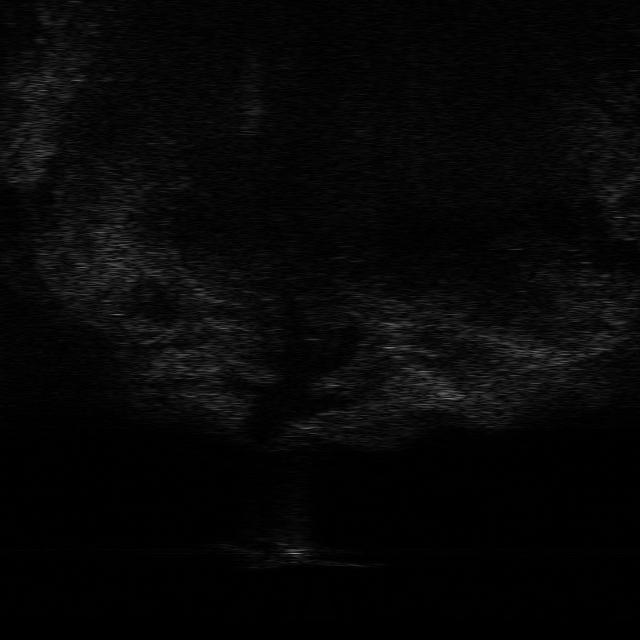plane: (219, 534, 379, 571)
